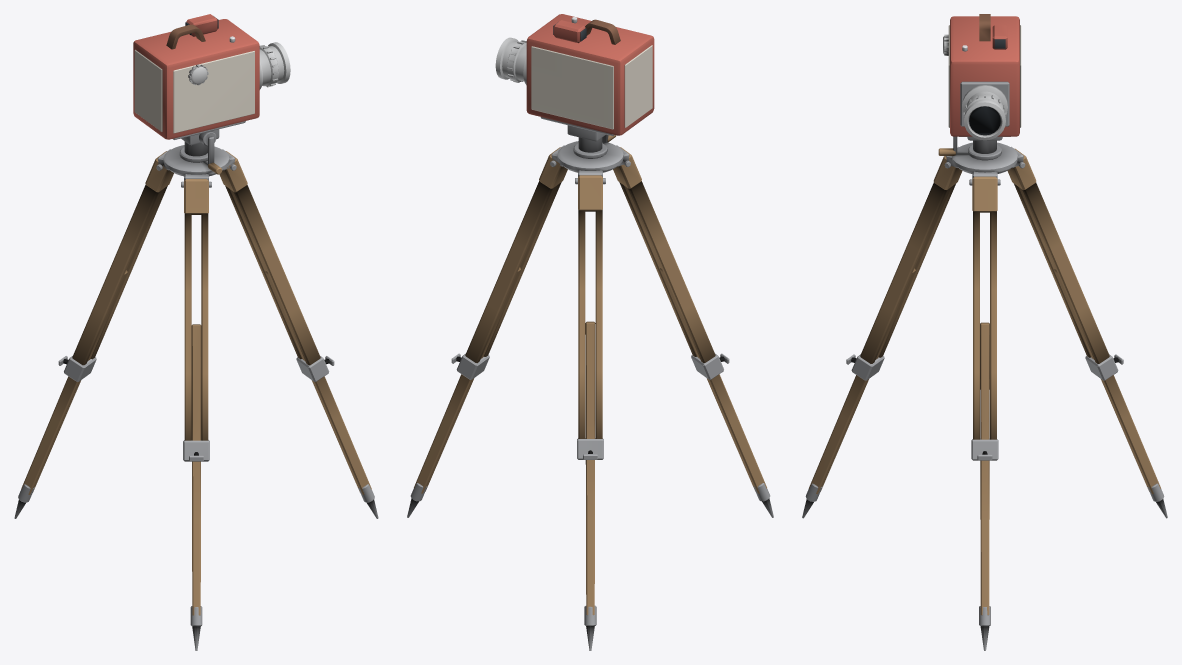
The model's file is junk_camera.glb.
The picture shows the model from 3 angles, left to right: view 1: azimuth 30°, elevation 25°; view 2: azimuth 150°, elevation 25°; view 3: azimuth 270°, elevation 25°; orthographic projection.
Visible parts, largest first — view 1: PART; view 2: PART; view 3: PART.
Part boxes in pixels (left/top/right/bottom): PART: left=14, top=14, right=378, bottom=650; PART: left=407, top=14, right=773, bottom=650; PART: left=802, top=14, right=1167, bottom=650.
Bounding box in the file's own units: 0.6338 × 1.19 × 0.7312.
